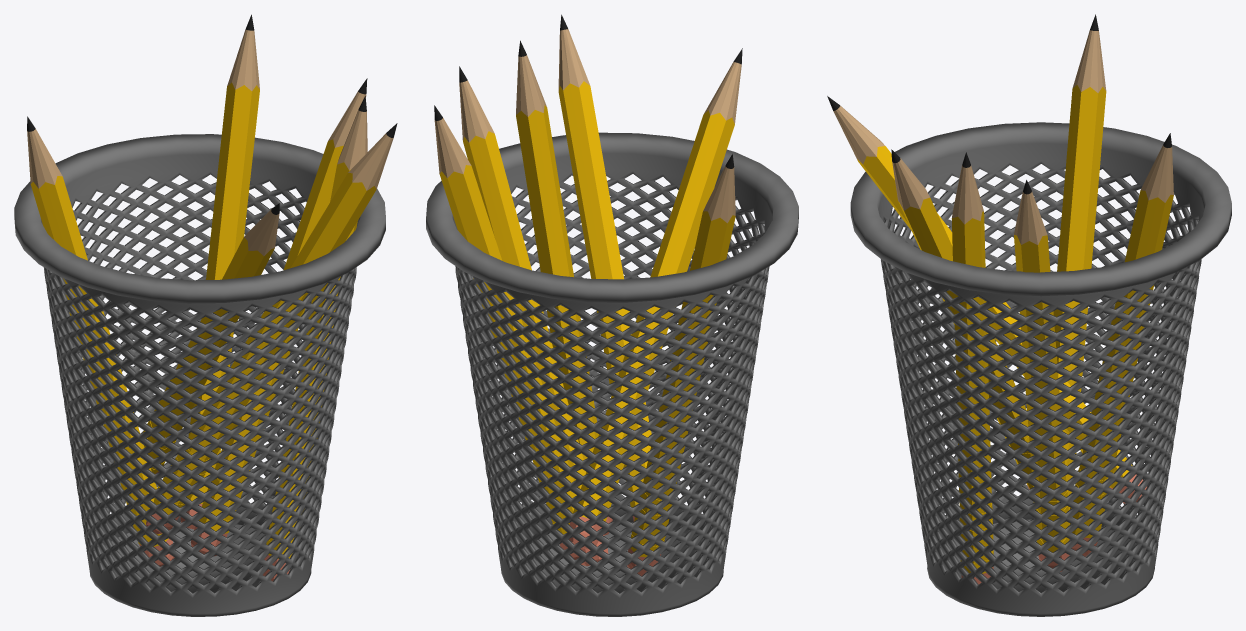
File: PENCIL HOLDER.fbx
3 renders of one model, left to right at view 1: azimuth 30°, elevation 25°; view 2: azimuth 150°, elevation 25°; view 3: azimuth 270°, elevation 25°, orthographic. The views are drawn at different scales.
Parts seen in each view (by area): view 1: Node; view 2: Node; view 3: Node.
Part boxes in pixels (bbox=[...]): Node: bbox=[14, 14, 397, 616]; Node: bbox=[426, 14, 798, 616]; Node: bbox=[827, 14, 1231, 616].
Size of the model in its own units: 264 by 378 by 281.
